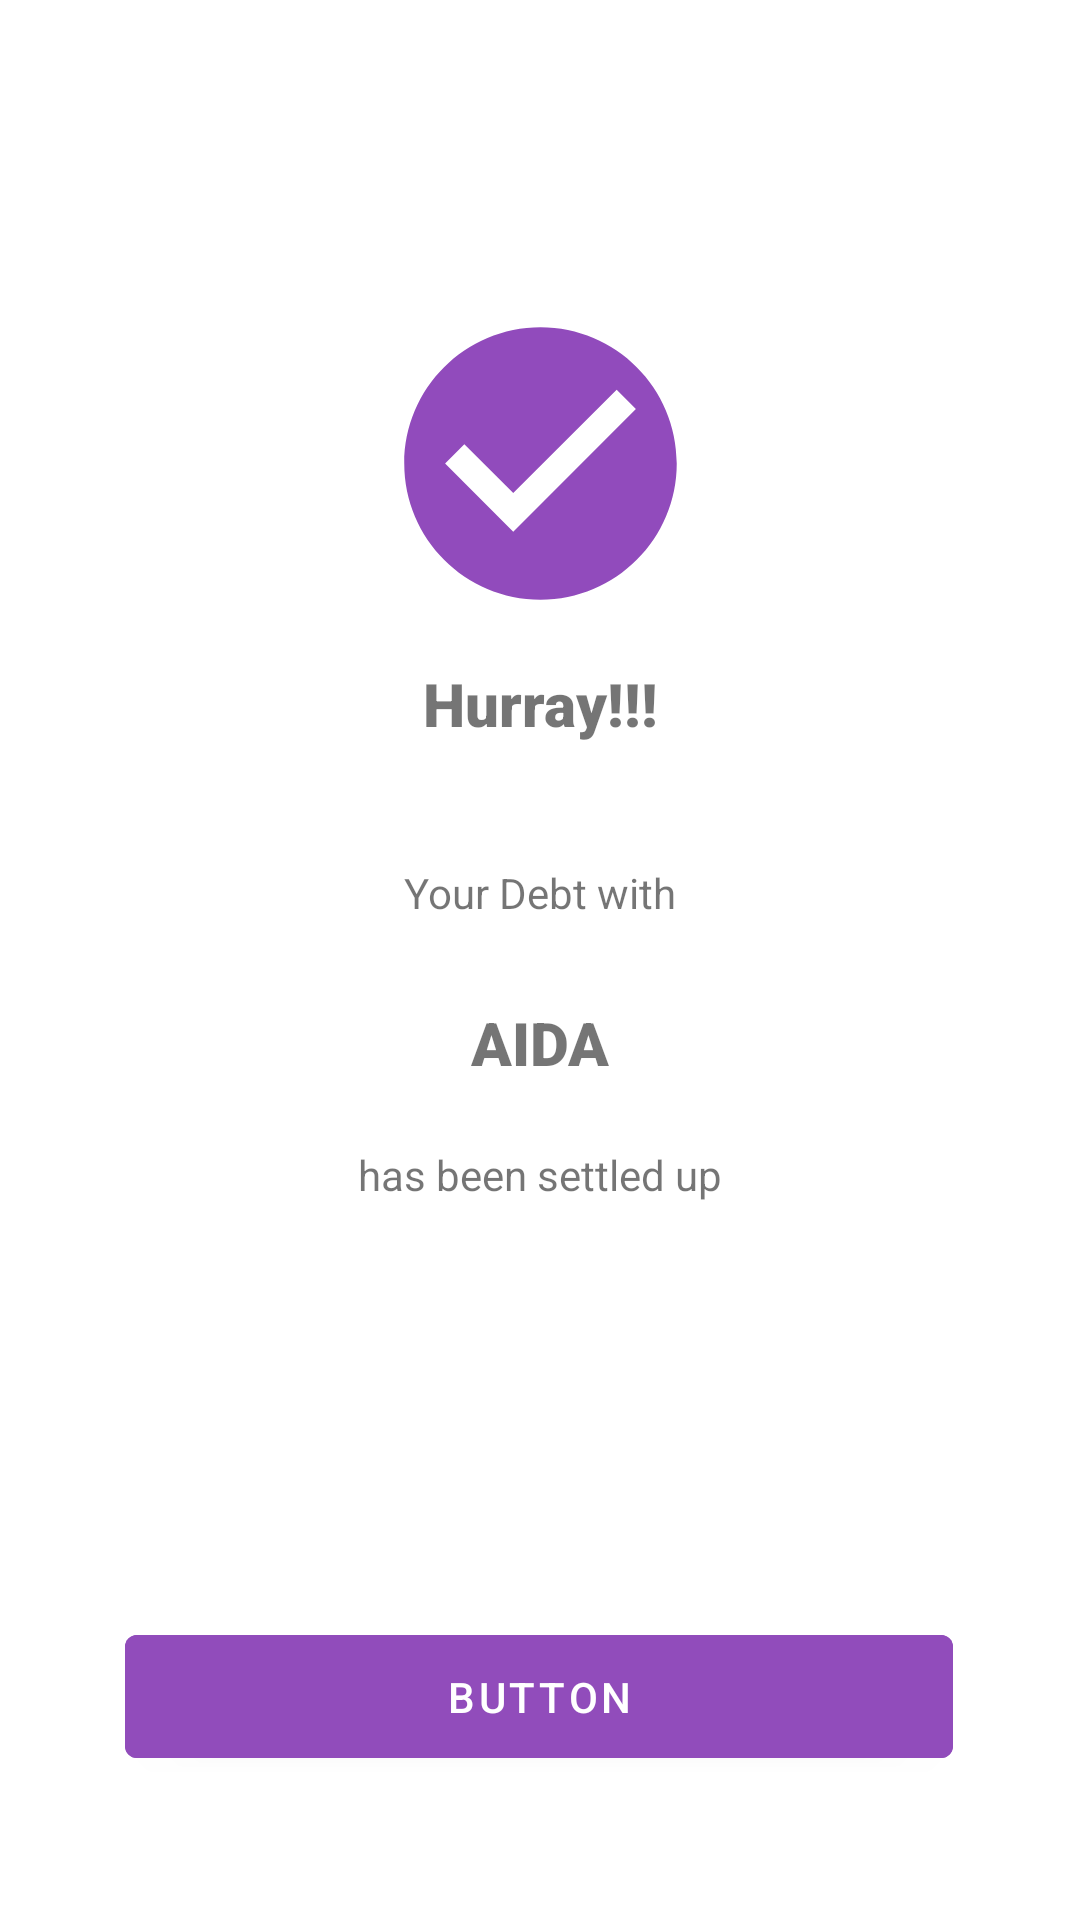

Icons on this 1080px x 1920px Android screen, each with the point to tap as point (x, y):
check circle: point (540, 463)
